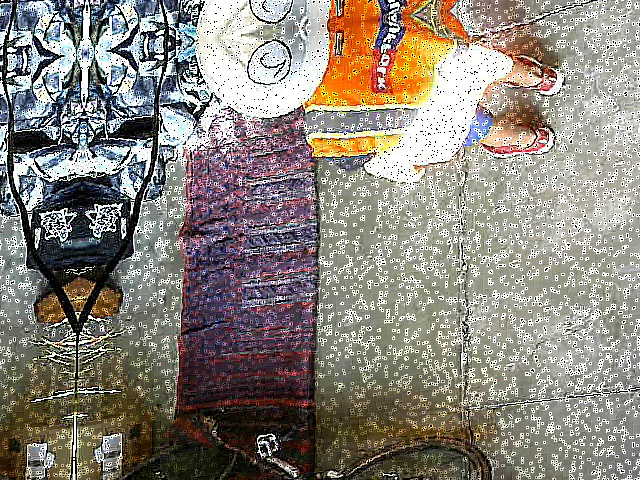two: (245, 37, 292, 88)
